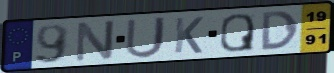9: (33, 23, 74, 65)
D: (261, 9, 301, 52)
K: (172, 15, 206, 55)
N: (73, 18, 117, 64)
Q: (218, 12, 256, 54)
U: (123, 15, 168, 60)
